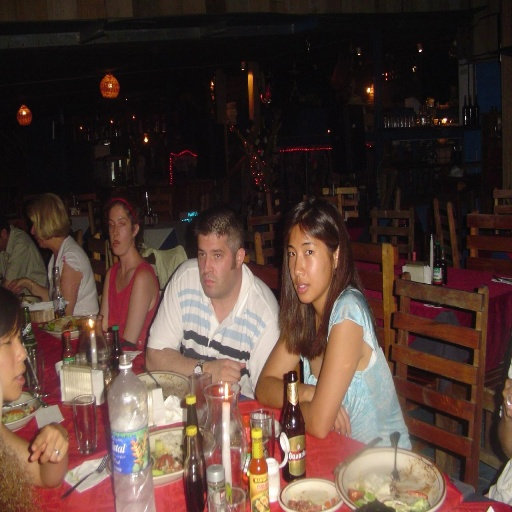hand: (312, 389, 352, 438), (29, 421, 70, 464), (204, 358, 246, 382), (502, 376, 511, 419), (6, 277, 26, 294)
